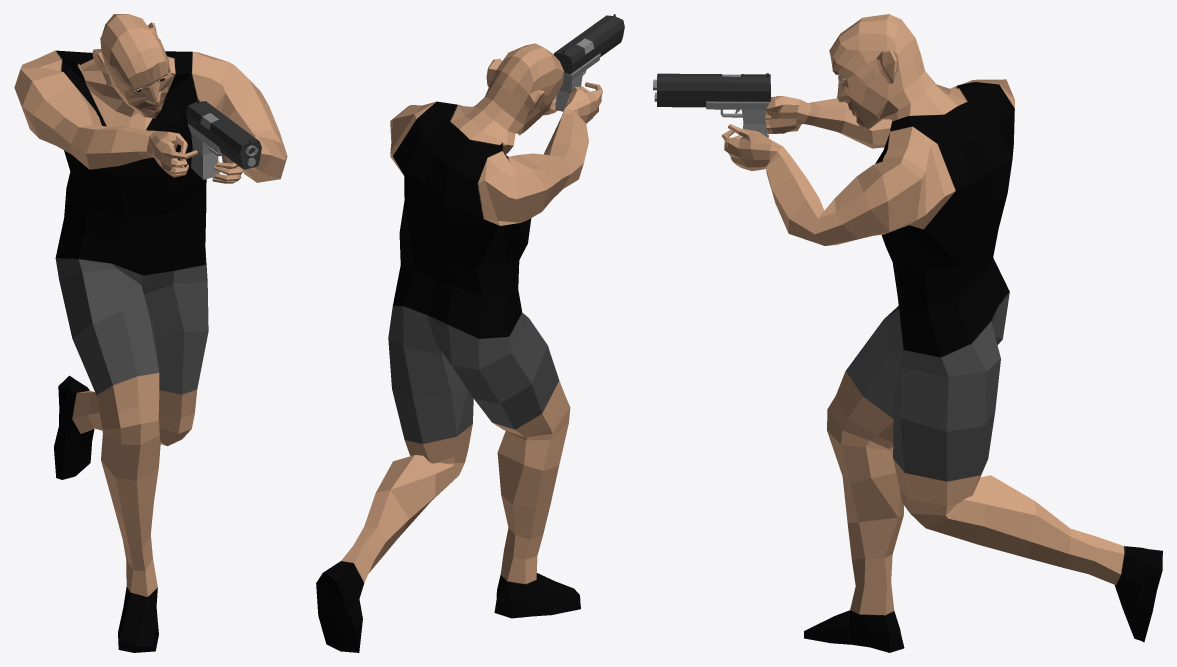
Rendered from PlayerWalk(20).obj.
3 renders of one model, left to right at view 1: azimuth 30°, elevation 25°; view 2: azimuth 150°, elevation 25°; view 3: azimuth 270°, elevation 25°, orthographic. The views are drawn at different scales.
Visible parts, largest first — view 1: Plane002, Box003; view 2: Plane002, Box003; view 3: Plane002, Box003.
Boxes of the visible parts, x1,y1,x2,y2 form: Plane002: [14, 14, 287, 652]; Box003: [186, 99, 261, 179]; Plane002: [316, 43, 602, 652]; Box003: [553, 14, 624, 111]; Plane002: [721, 14, 1162, 652]; Box003: [653, 73, 770, 138].
Size of the model in its own units: 573 by 1663 by 1223.
